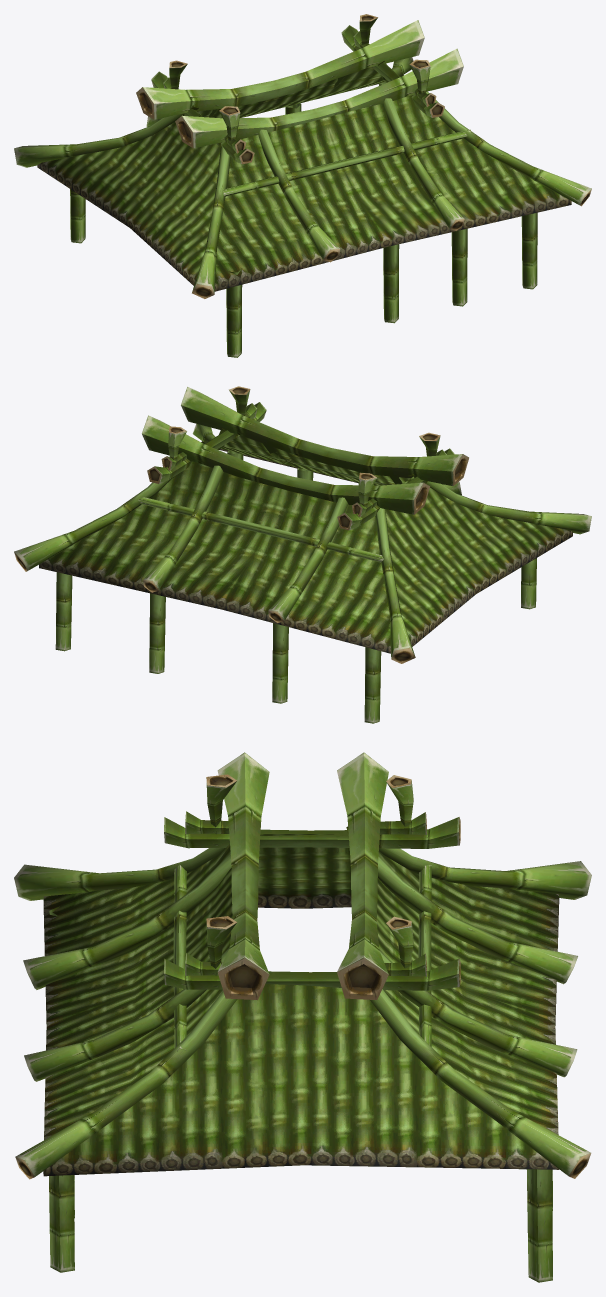
The model's file is environment_Building_zhuziwu_009_a.FBX.
3 renders of one model, top to bottom at view 1: azimuth 30°, elevation 25°; view 2: azimuth 150°, elevation 25°; view 3: azimuth 270°, elevation 25°, orthographic. The views are drawn at different scales.
Visible parts, largest first — view 1: environment_Building_zhuziwu_009_a, environment_Building_zhuziwu_009_b; view 2: environment_Building_zhuziwu_009_a, environment_Building_zhuziwu_009_b; view 3: environment_Building_zhuziwu_009_a, environment_Building_zhuziwu_009_b.
Part boxes in pixels (x1,y1,x2,y2): environment_Building_zhuziwu_009_a: (37, 67, 571, 291); environment_Building_zhuziwu_009_b: (14, 14, 591, 357); environment_Building_zhuziwu_009_a: (39, 435, 572, 653); environment_Building_zhuziwu_009_b: (14, 386, 591, 723); environment_Building_zhuziwu_009_a: (43, 834, 559, 1176); environment_Building_zhuziwu_009_b: (14, 752, 591, 1282).
Bounding box in the file's own units: 772 × 371 × 635.
